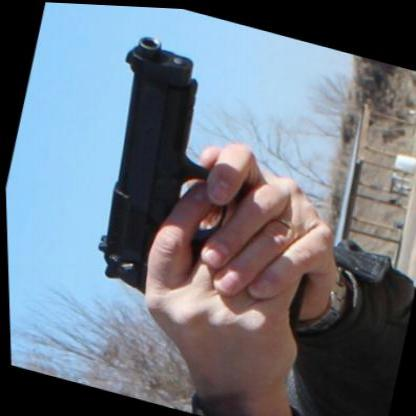pistol: (68, 27, 352, 335)
